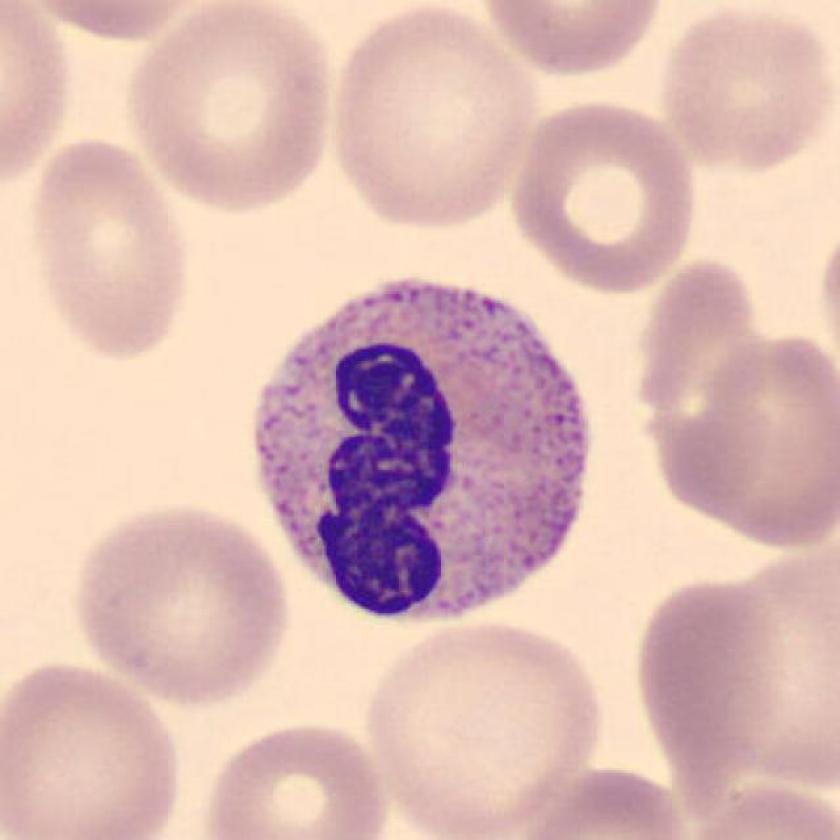neutrophil: (248, 281, 592, 619)
